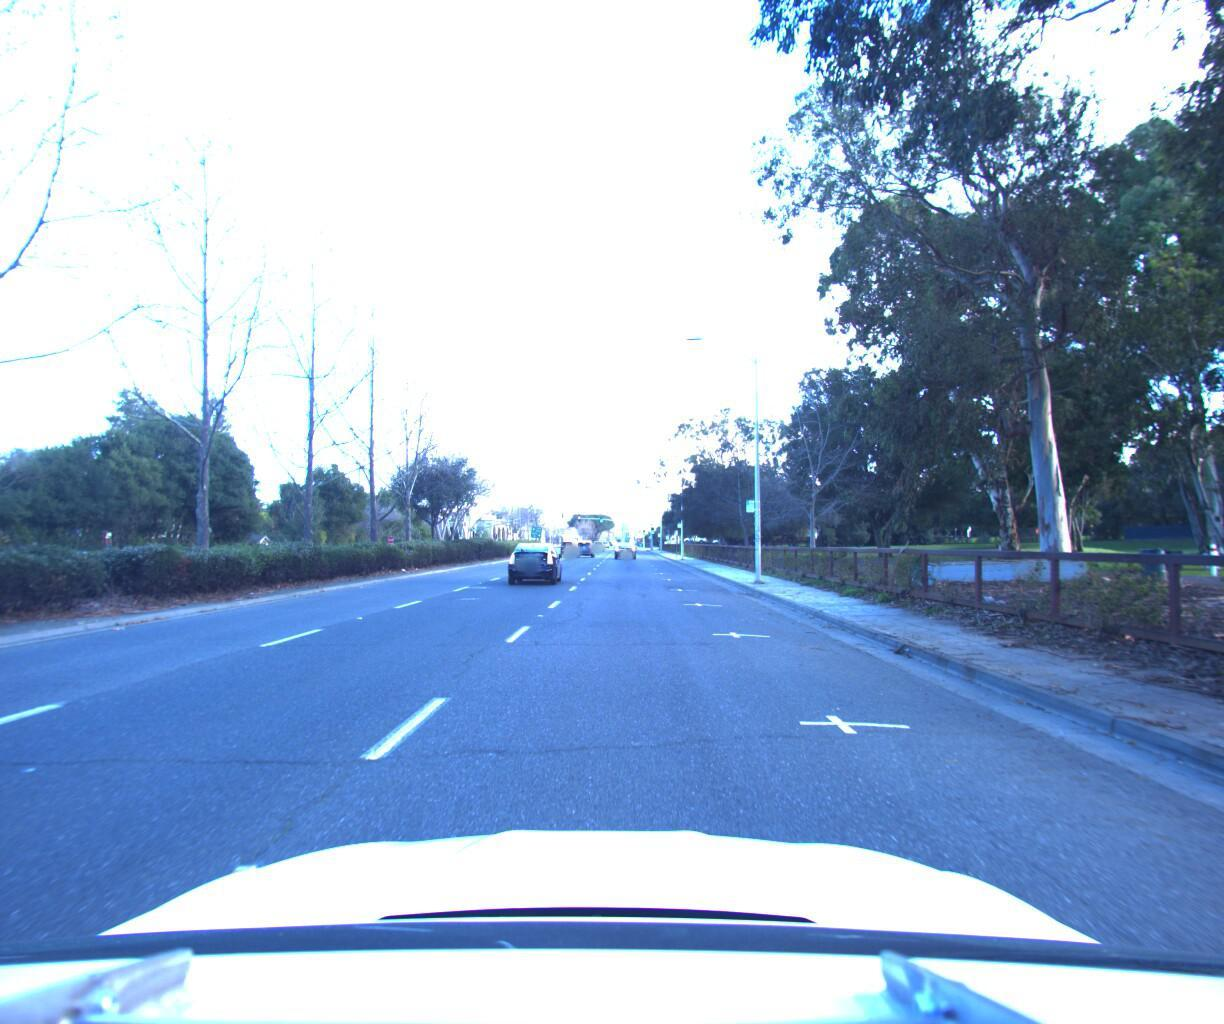car: (508, 533, 566, 579), (614, 533, 636, 551), (575, 531, 596, 548)
